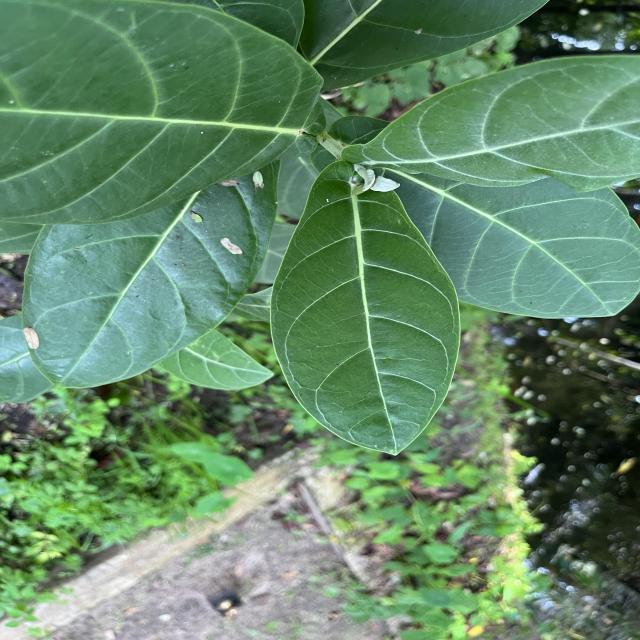Calotropis gigantea: (22, 158, 279, 391), (268, 159, 463, 458), (338, 52, 640, 198), (397, 187, 640, 321)
